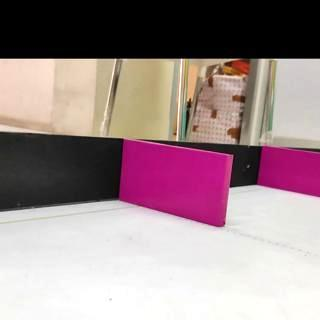xparking: (120, 139, 234, 229), (259, 145, 320, 198)
